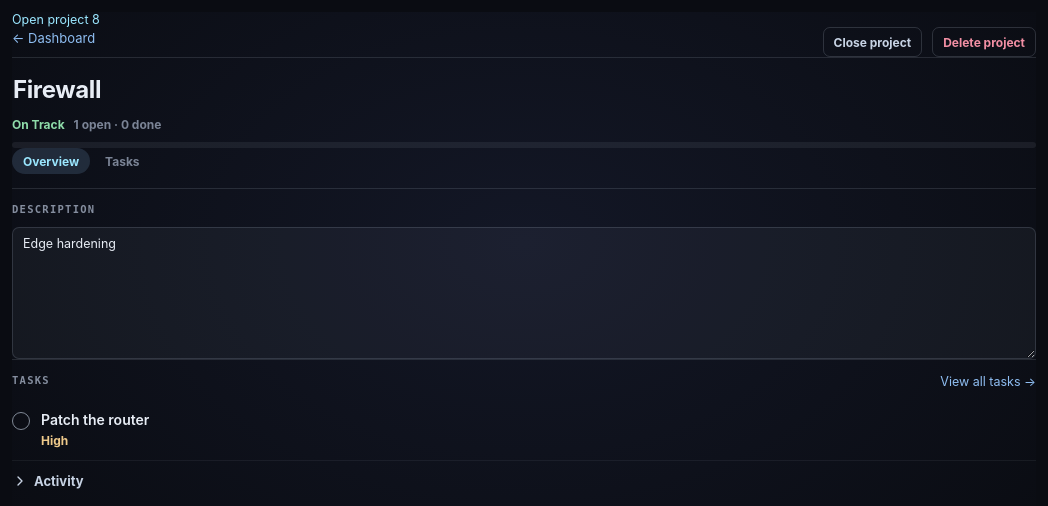
it: ProjectDetailPage › discards a PATCH that resolves after navigating to another project
The width and height of the screenshot is (1048, 506).
// PATCH A on project 7, response held open.
Step 1. Replace the text in the field named "Project name" with "Edge Firewall" → (524, 90), box 12,72 -> 1036,108
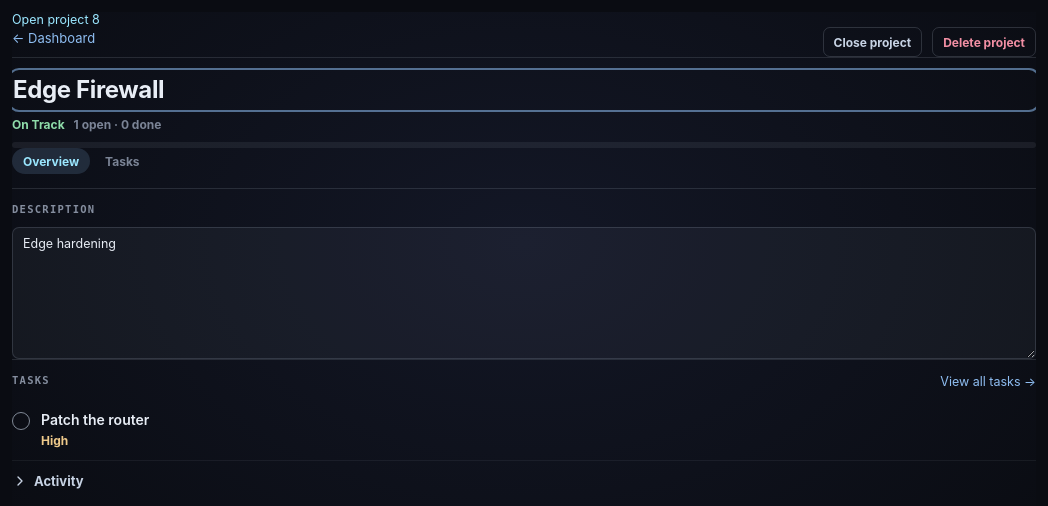
Step 2. Press Tab
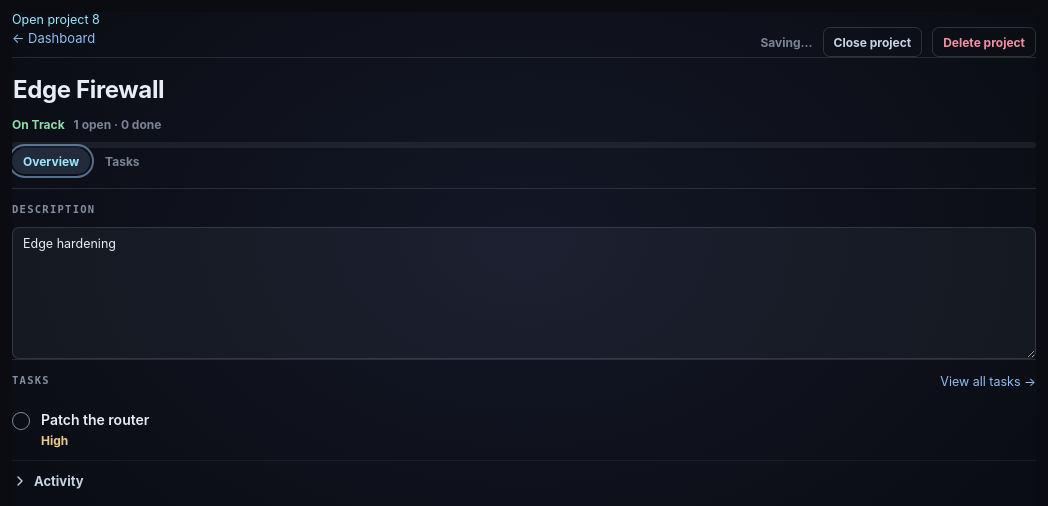
// Same mounted route, new :projectId.
Step 3. Click the link "Open project 8" → click(56, 20), box 12,12 -> 100,27
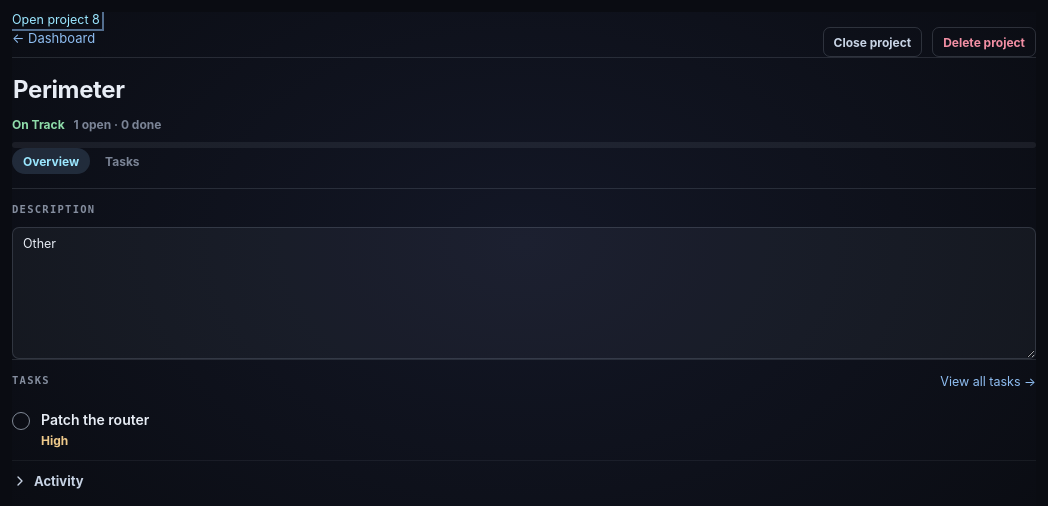
Now the field named "Project name" holds "Perimeter", box 12,72 -> 1036,108
Now the text box named "Project description" holds "Other", box 12,226 -> 1036,358
Now the text "Saving…" is gone
